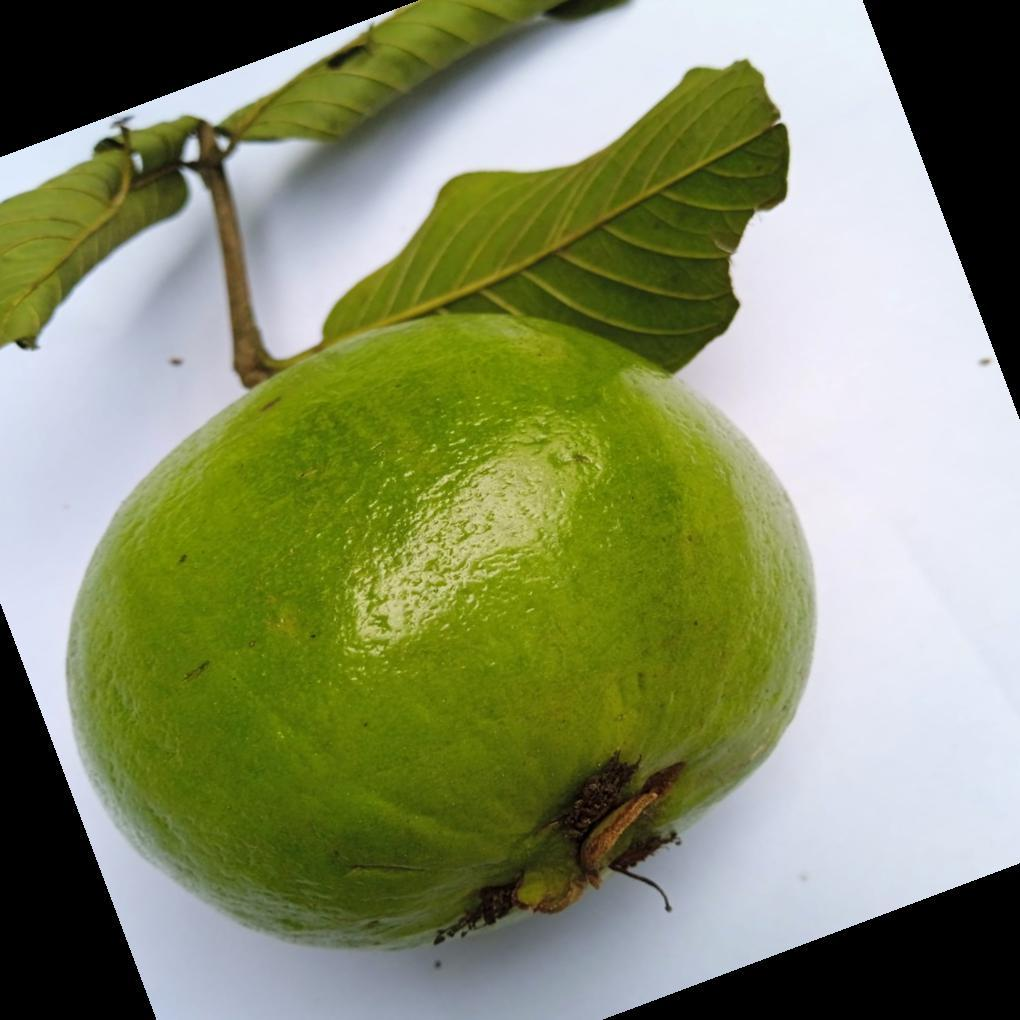FreshGuava: (64, 60, 821, 955)
